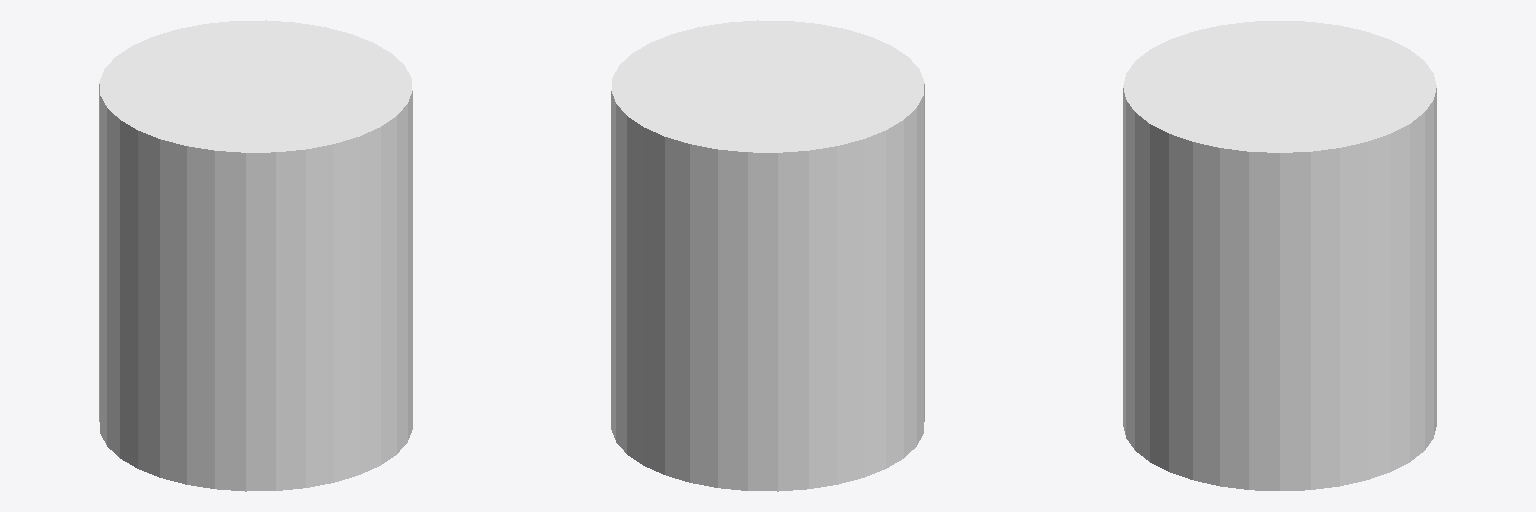
The robot description file, URDF, robot "origins":
<?xml version="1.0"?>
<robot name="origins">
  
  <material name="blue">
    <color rgba="0 0 0.8 1"/>
  </material>
  
  <material name="white">
    <color rgba="1 1 1 0.3"/>
  </material>
  

  <link name="base_link">
    <visual>
      <geometry>
        <cylinder length="0.2" radius="0.1"/>
      </geometry>
      <origin rpy="0 0 0" xyz="0 0 0"/>
      <material name="blue"/>
    </visual>
    <collision>
      <geometry>
        <cylinder length="0.2" radius="0.1"/>
      </geometry>
    </collision>
    <inertial>
      <mass value="1"/>
      <inertia ixx="5.83e-3" ixy="0.0" ixz="0.0" iyy="5.83e-3" iyz="0.0" izz="5e-3"/>
    </inertial>
  </link>
  
  <link name="gran">
    <visual>
      <geometry>
        <cylinder length="0.25" radius="0.105"/>
      </geometry>
      <origin rpy="0 0 0" xyz="0 0 0"/>
      <material name="white"/>
    </visual>
  </link>
  
  <joint name="base_to_gran" type="fixed">
    <parent link="base_link"/>
    <child link="gran"/>
    <origin rpy="0 0 0" xyz="0 0 0"/>
  </joint>
  
  
  <link name="wheel_l_f">
    <visual>
      <geometry>
        <cylinder length="0.005" radius="0.025"/>
      </geometry>
      <origin rpy="0 1.572 0" xyz="0 0 0"/>
    </visual>
    <collision>
      <geometry>
        <cylinder length="0.005" radius="0.025"/>
      </geometry>
    </collision>
    <inertial>
      <mass value="0.001"/>
      <inertia ixx="3.13e-7" ixy="0.0" ixz="0.0" iyy="3.13e-7" iyz="0.0" izz="3.13e-7"/>
    </inertial>
  </link>
  
  <joint name="base_to_wheel_l_f" type="continuous">
    <axis xyz="-1 0 0"/>
    <origin rpy="0 0 0" xyz="-0.055 0.055 -0.1"/>
    <parent link="base_link"/>
    <child link="wheel_l_f"/>
  </joint>
  
  <link name="wheel_r_f">
    <visual>
      <geometry>
        <cylinder length="0.005" radius="0.025"/>
      </geometry>
      <origin rpy="0 1.572 0" xyz="0 0 0"/>
    </visual>
    <collision>
      <geometry>
        <cylinder length="0.005" radius="0.025"/>
      </geometry>
    </collision>
    <inertial>
      <mass value="0.001"/>
      <inertia ixx="3.13e-7" ixy="0.0" ixz="0.0" iyy="3.13e-7" iyz="0.0" izz="3.13e-7"/>
    </inertial>
  </link>
  
  <joint name="base_to_wheel_r_f" type="continuous">
    <axis xyz="-1 0 0"/>
    <origin rpy="0 0 0" xyz="0.055 0.055 -0.1"/>
    <parent link="base_link"/>
    <child link="wheel_r_f"/>
  </joint>
  
  
  <link name="spher_wheel">
    <visual>
      <geometry>
        <sphere radius="0.025"/>
      </geometry>
      <origin rpy="0 0 0" xyz="0 0 0"/>
    </visual>
    <collision>
      <geometry>
        <cylinder radius="0.025"/>
      </geometry>
    </collision>
    <inertial>
      <mass value="0.02"/>
      <inertia ixx="5e-6" ixy="0.0" ixz="0.0" iyy="5e-6" iyz="0.0" izz="5e-6"/>
    </inertial>
  </link>
  
  <joint name="base_to_spher_wheel" type="fixed">
    <parent link="base_link"/>
    <child link="spher_wheel"/>
    <origin rpy="0 0 0" xyz="0 -0.07 -0.1"/>
  </joint>
  
</robot>

--- Facts derived from the render (not from the file) ---
3 views of the same robot in one strip: view 1: azimuth 30°, elevation 25°; view 2: azimuth 150°, elevation 25°; view 3: azimuth 270°, elevation 25° (orthographic).
Model origins with 5 links and 4 joints (2 continuous, 2 fixed), rooted at base_link, posed every joint at zero.
Links seen in each view (by area): view 1: gran; view 2: gran; view 3: gran.
Boxes of the visible links, x1,y1,x2,y2 form: gran: [99, 20, 412, 491]; gran: [611, 20, 924, 491]; gran: [1123, 21, 1436, 490].
Size in the robot's own frame: 0.21 by 0.21 by 0.25 metres.
Geometry: primitives only (box / cylinder / sphere), no mesh files.
